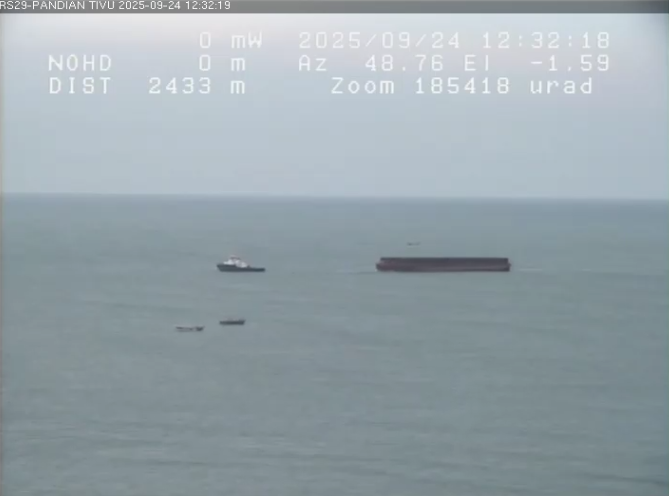BARGE: (361, 245, 537, 284)
FISHING_BOAT: (163, 315, 206, 346), (212, 314, 258, 332)
OFFSHORE_SUPPLY_VESSEL: (206, 245, 285, 284)
TOWING: (189, 212, 562, 297)
